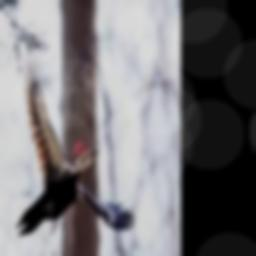Woodpecker: (17, 51, 135, 235)
